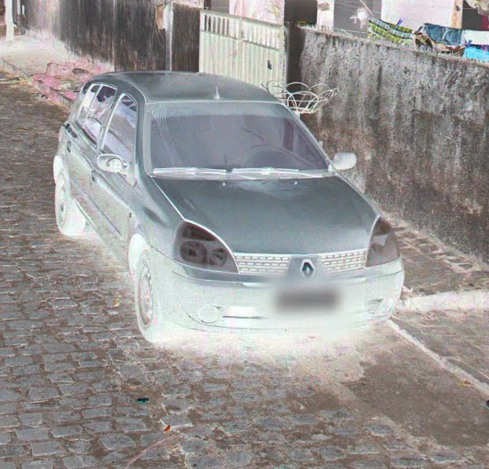car: (49, 42, 407, 346)
